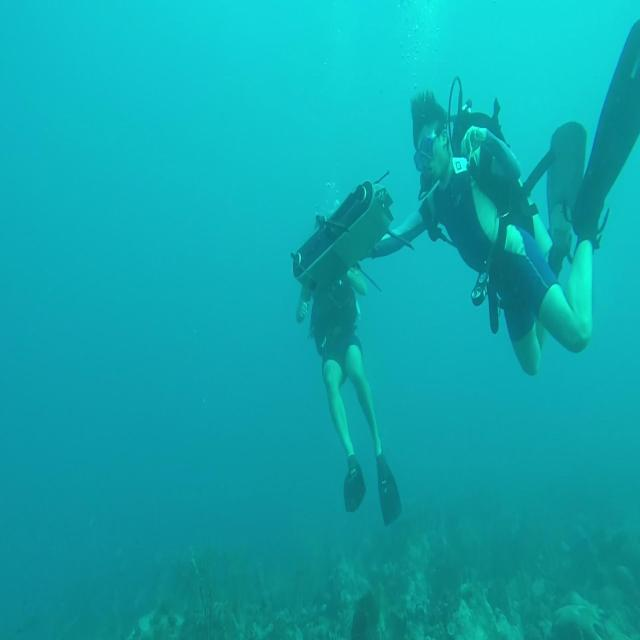human: (370, 18, 638, 377), (291, 177, 404, 526)
